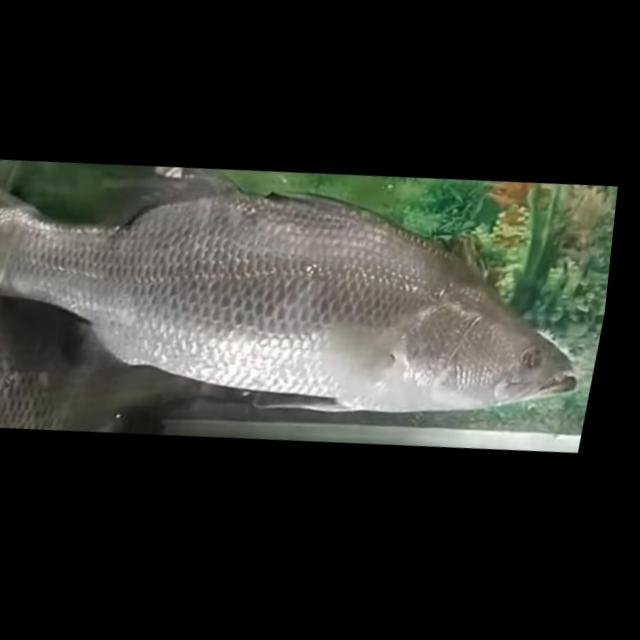Seabass: (0, 131, 624, 450)
